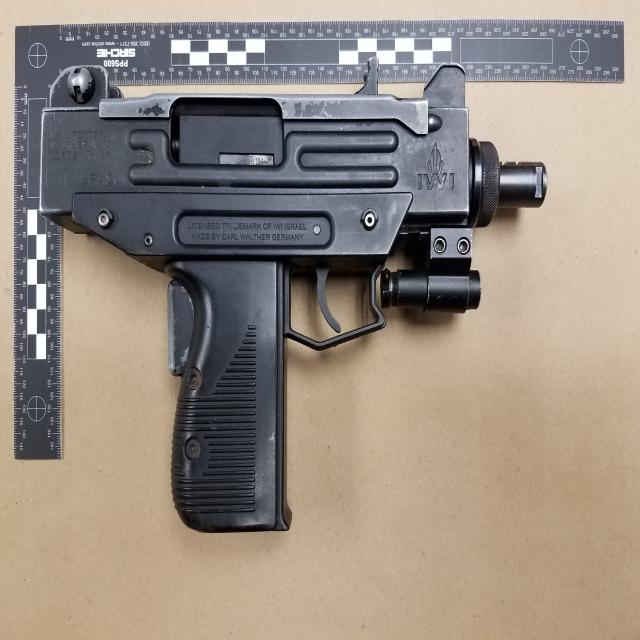SMG: (16, 48, 546, 538)
